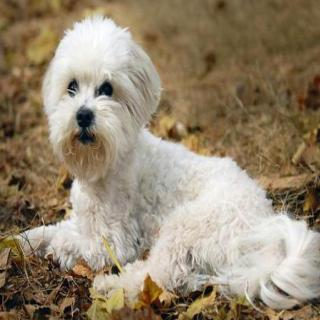dog: (40, 18, 151, 172)
nose: (74, 102, 98, 132)
